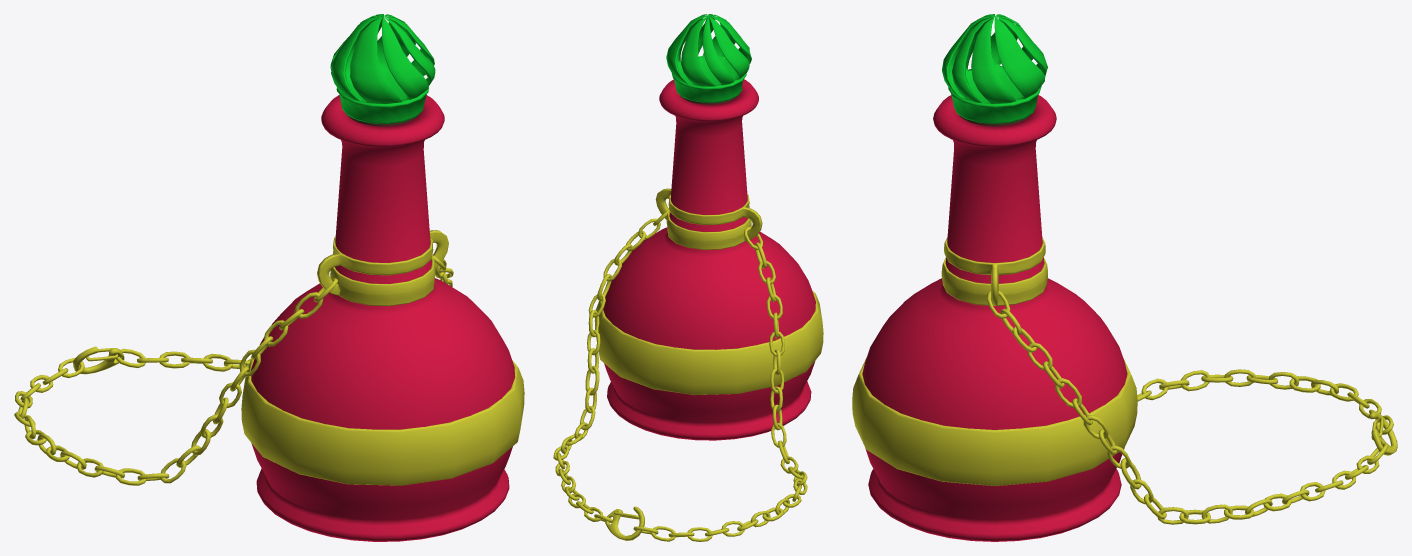
3 views of the same model, side by side, from view 1: azimuth 30°, elevation 25°; view 2: azimuth 150°, elevation 25°; view 3: azimuth 270°, elevation 25° (orthographic). The views are drawn at different scales.
Parts seen in each view (by area): view 1: vessel, ornament, bung, chain; view 2: vessel, ornament, chain, bung; view 3: vessel, ornament, chain, bung.
Part boxes in pixels (bbox=[...]): vessel: bbox=[250, 95, 515, 541]; ornament: bbox=[241, 230, 524, 485]; bung: bbox=[330, 14, 435, 126]; chain: bbox=[14, 255, 453, 485]; vessel: bbox=[603, 79, 815, 440]; ornament: bbox=[594, 188, 823, 395]; chain: bbox=[553, 208, 807, 541]; bung: bbox=[666, 14, 751, 104]; vessel: bbox=[862, 95, 1127, 541]; ornament: bbox=[852, 237, 1137, 486]; chain: bbox=[986, 291, 1397, 524]; bung: bbox=[942, 14, 1047, 126].
Bounding box in the file's own units: 1.46 × 1.94 × 2.
